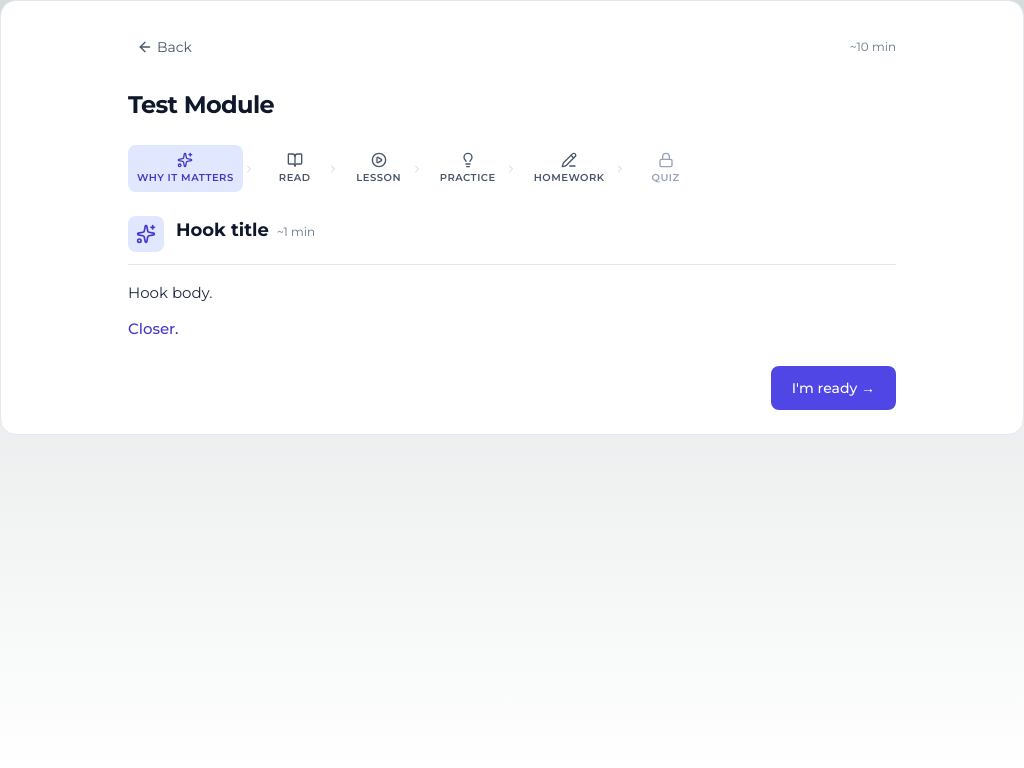
Test case: ModuleStructure section persistence › re-sends unsaved sections on Retry, once at a time, and clears the notice
What coordinates should you click on to do the following:
click the button "I'm ready →"
I would click on:
 (833, 388)
Its box is [771,366,896,410].
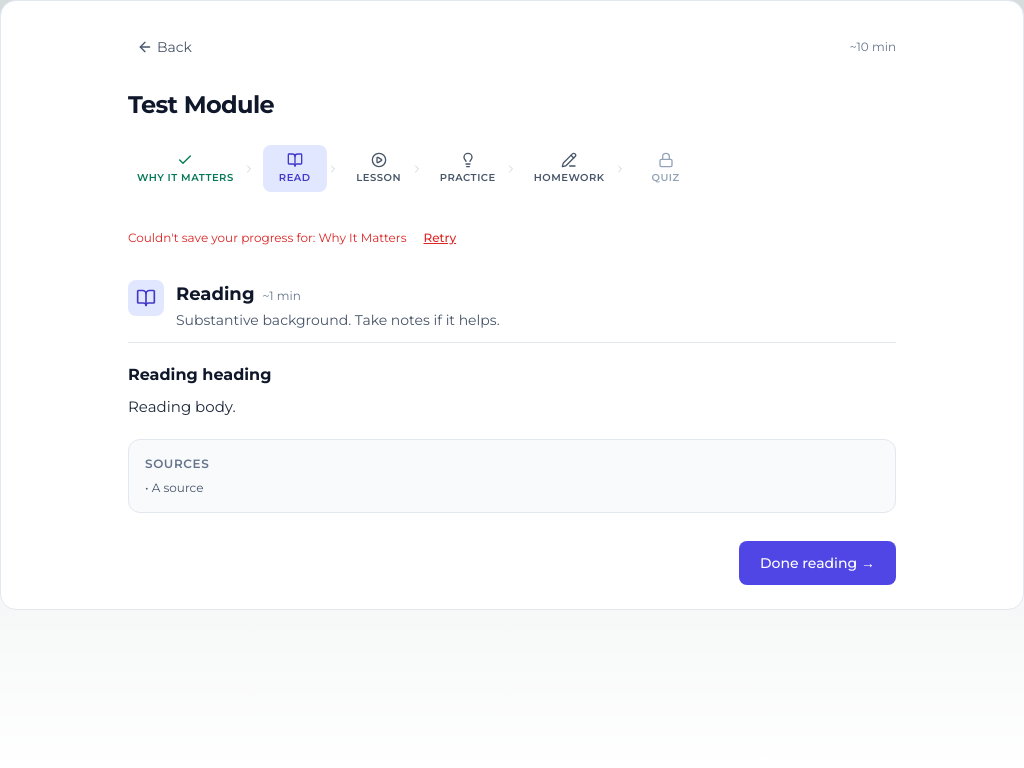
Expected: the message "Couldn't save your progress for: Why It Matters Retry" is shown, [128,216,465,260]
What coordinates should you click on to do the following:
click the button "Retry"
I would click on:
 (440, 238)
Its box is [414,216,465,260].
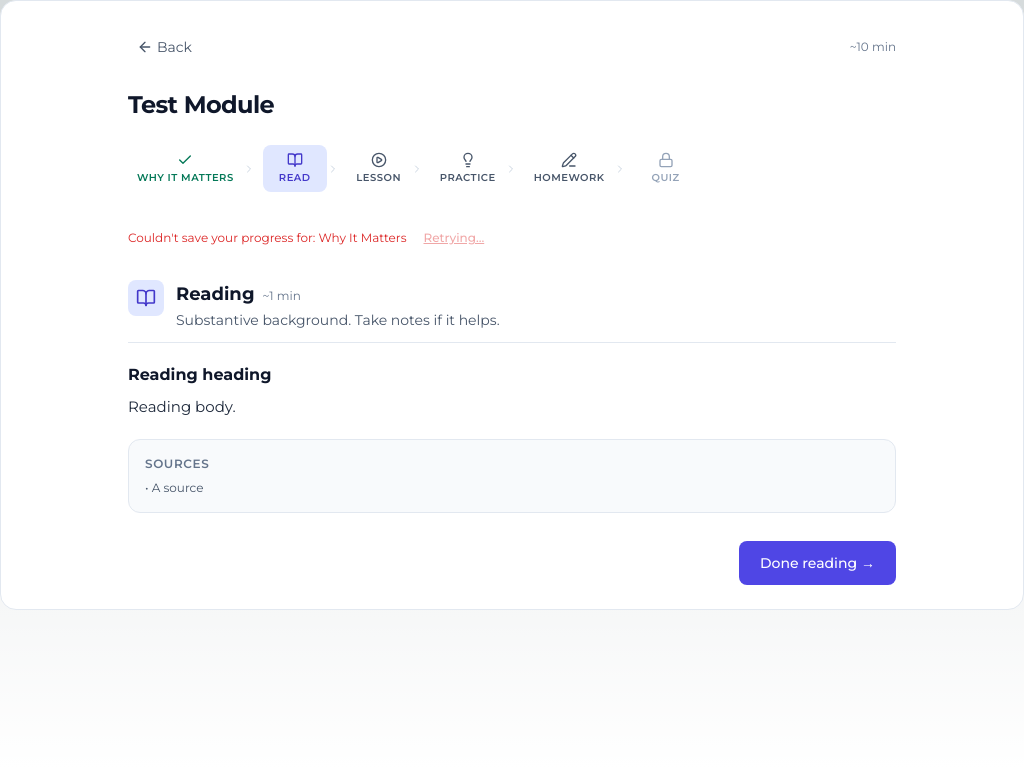
Expected: the button "Retrying…" is disabled
What coordinates should you click on to do the following:
click the button "Retrying…"
I would click on:
 (454, 238)
Its box is [414,216,493,260].
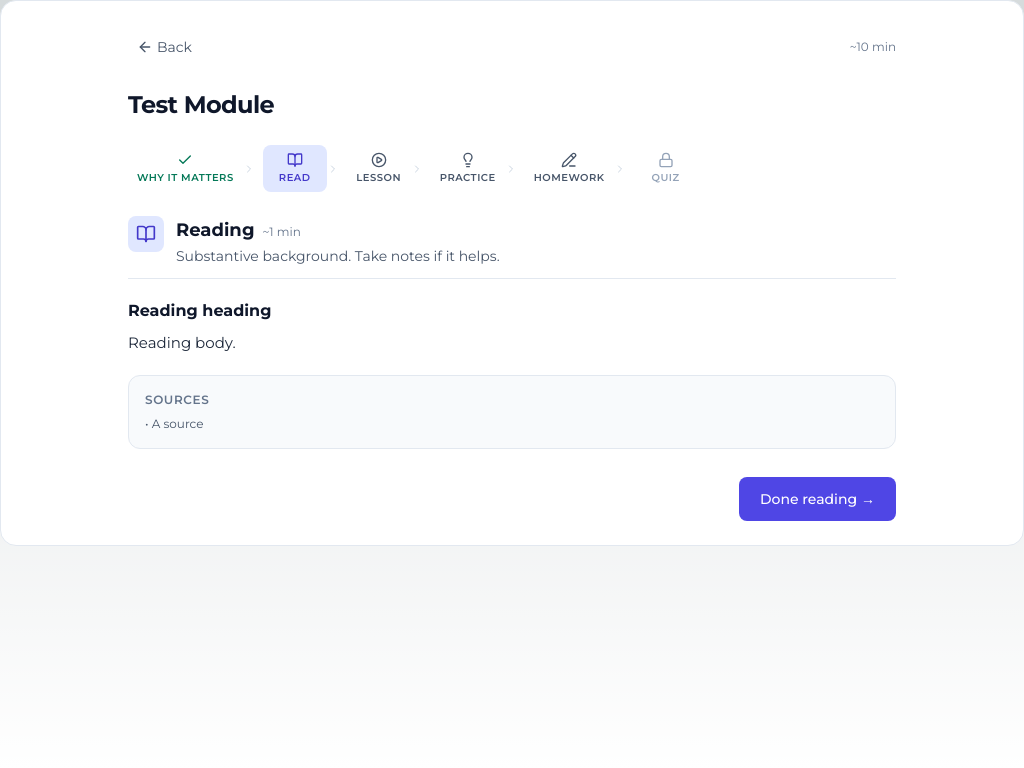
Expected: the message "Couldn't save your progress for: Why It Matters Retrying…" is gone
